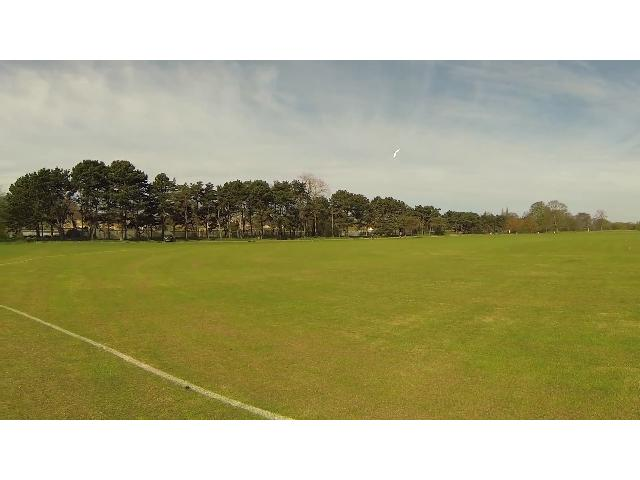Anti-Drone: (386, 143, 410, 165)
